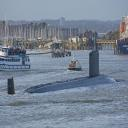submarine: (8, 51, 123, 97)
